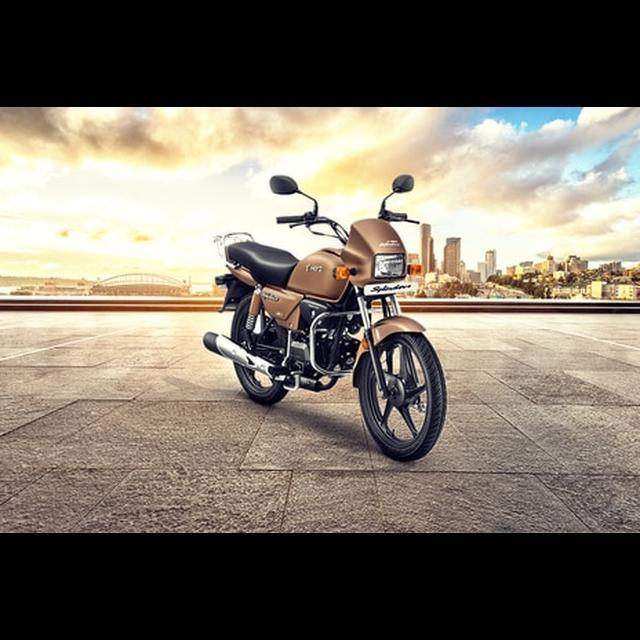motorcycle: (201, 167, 451, 469)
